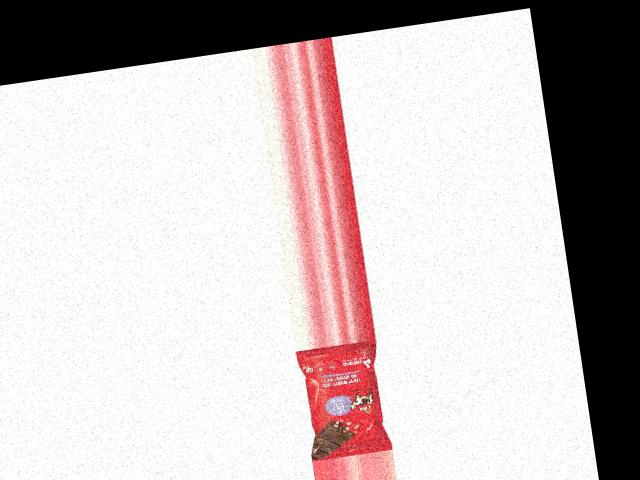chocolate: (294, 339, 389, 461)
